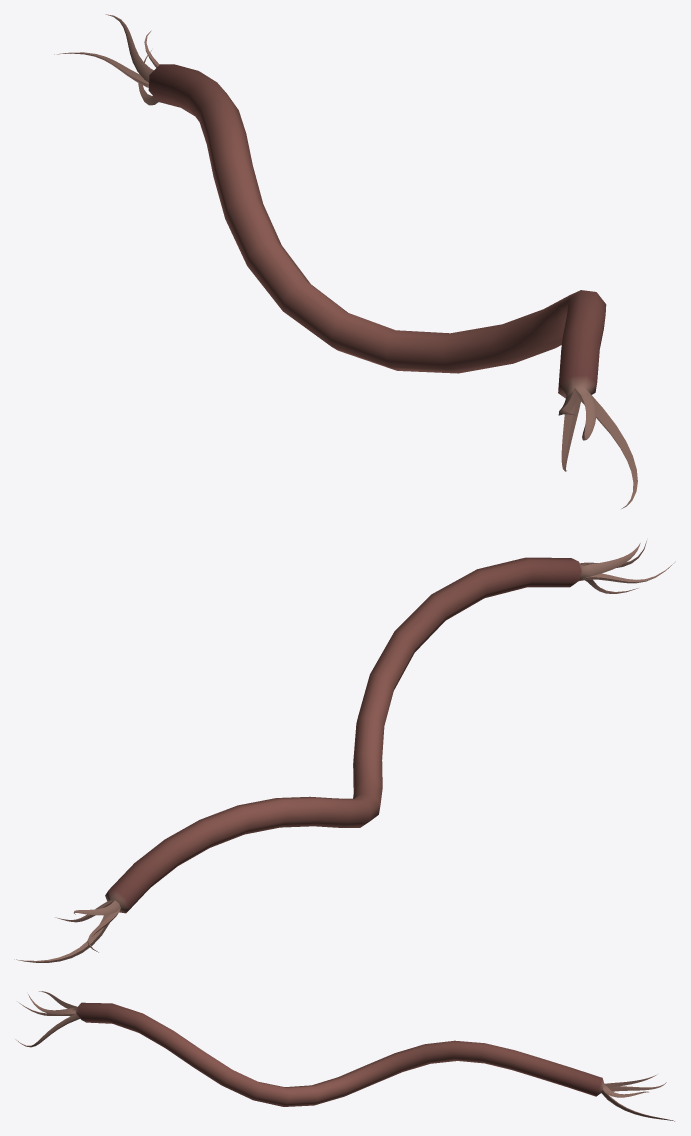
The model's file is microscopic-bacteria-twisted-bacterium_v1.glb.
The picture shows the model from 3 angles, top to bottom: view 1: azimuth 30°, elevation 25°; view 2: azimuth 150°, elevation 25°; view 3: azimuth 270°, elevation 25°; orthographic projection. The views are drawn at different scales.
Parts seen in each view (by area): view 1: Twisted Bacterium_v1; view 2: Twisted Bacterium_v1; view 3: Twisted Bacterium_v1.
Part boxes in pixels (<box>): Twisted Bacterium_v1: <box>54,14,637,508</box>; Twisted Bacterium_v1: <box>14,541,675,962</box>; Twisted Bacterium_v1: <box>15,991,674,1121</box>.
Bounding box in the file's own units: 0.0429 × 0.0318 × 0.2.
